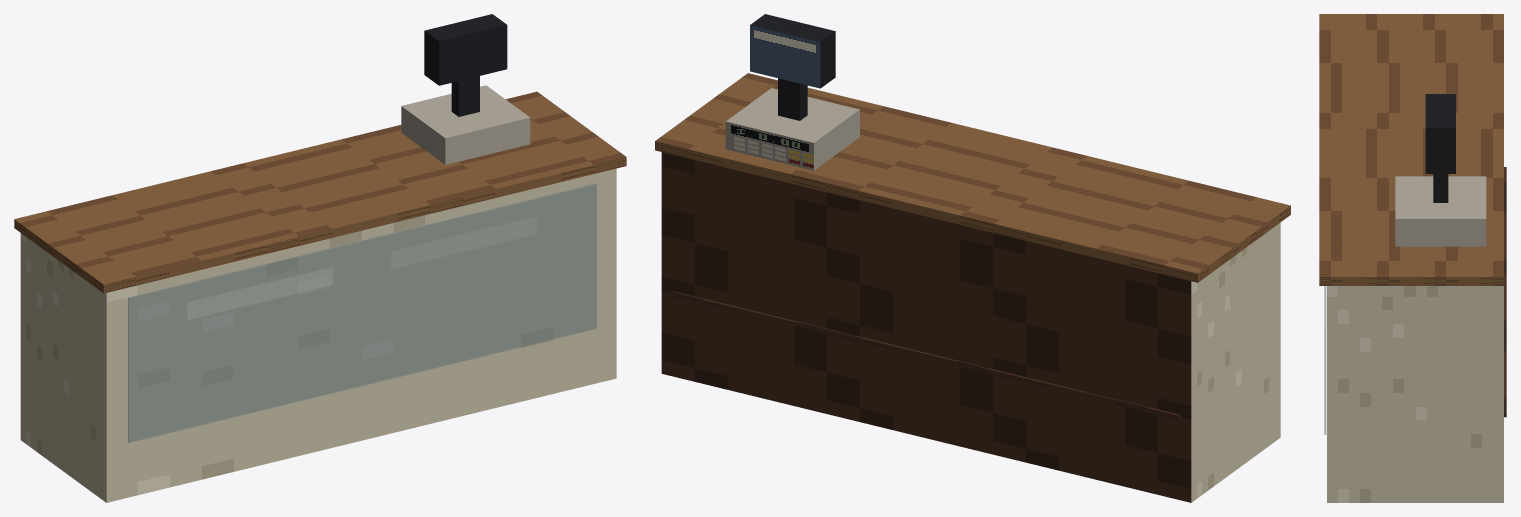
Rendered from COM_RetailCounter.glb.
3 views of the same model, side by side, from view 1: azimuth 30°, elevation 25°; view 2: azimuth 150°, elevation 25°; view 3: azimuth 270°, elevation 25° (orthographic). The views are drawn at different scales.
Parts seen in each view (by area): view 1: COM_RetailCounter_Mesh; view 2: COM_RetailCounter_Mesh; view 3: COM_RetailCounter_Mesh.
Boxes of the visible parts, box(x1,y1,x2,y2) form: COM_RetailCounter_Mesh: box(14, 14, 626, 502); COM_RetailCounter_Mesh: box(655, 14, 1290, 502); COM_RetailCounter_Mesh: box(1319, 14, 1506, 502).
Size of what is drawn, in the model's own units: 2.46 by 1.5 by 0.74.
2 materials, 2 textured.
